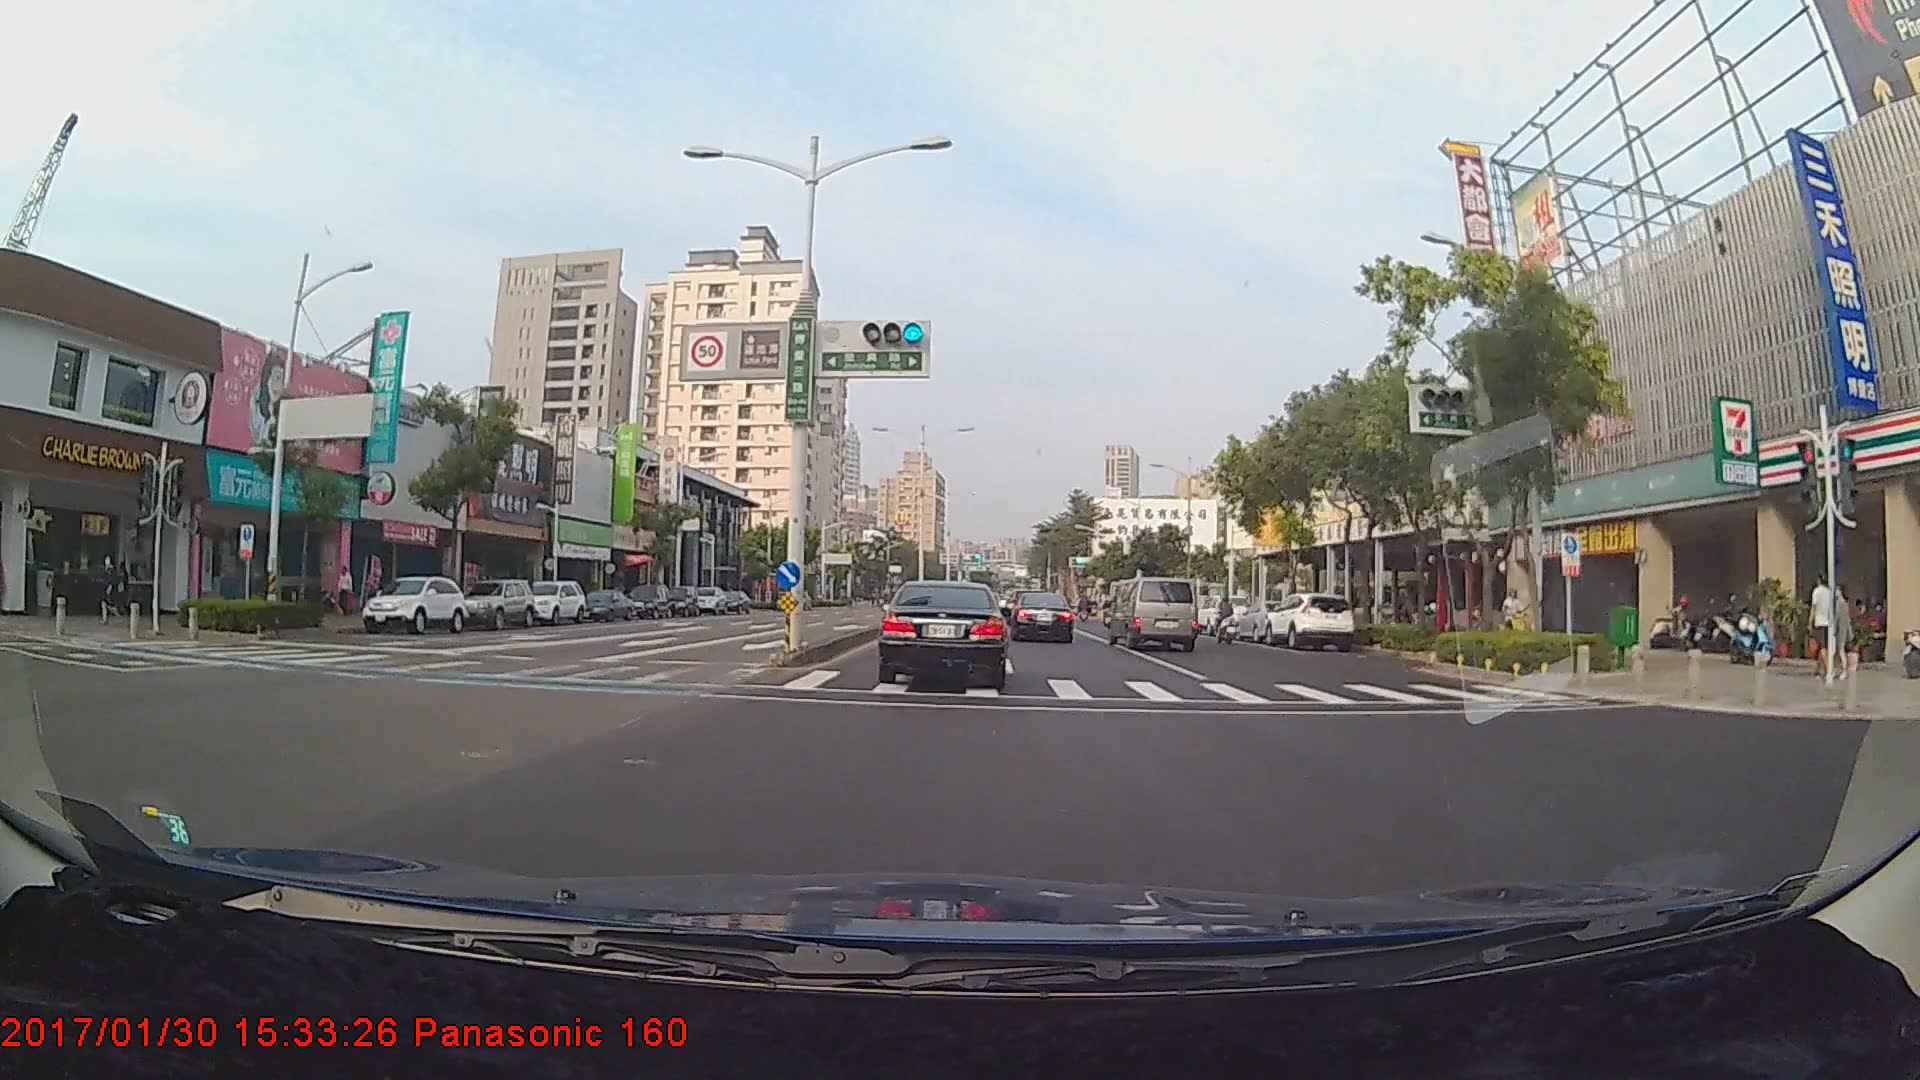pedestrian: (1810, 569, 1841, 679), (1828, 583, 1855, 679), (100, 549, 123, 624), (335, 566, 355, 619)
rider: (1211, 596, 1245, 649)
vehicle: (878, 580, 1006, 689), (1107, 575, 1199, 652), (359, 574, 470, 633), (1260, 591, 1355, 650), (454, 577, 537, 631), (1009, 592, 1074, 643), (518, 579, 588, 626), (626, 585, 673, 622), (586, 589, 634, 623), (662, 586, 700, 618)
